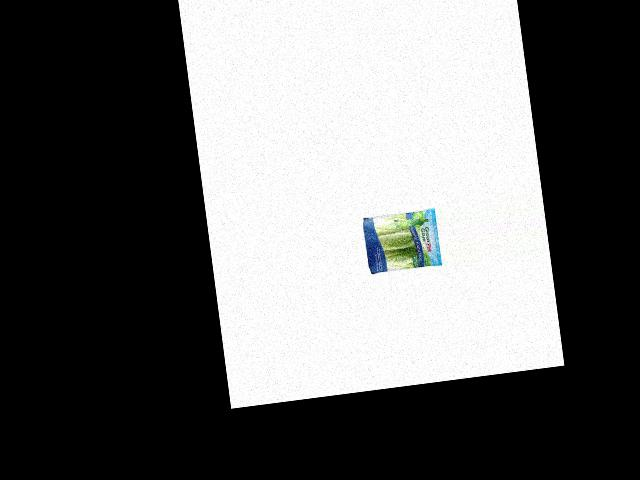lettuce: (358, 206, 438, 275)
